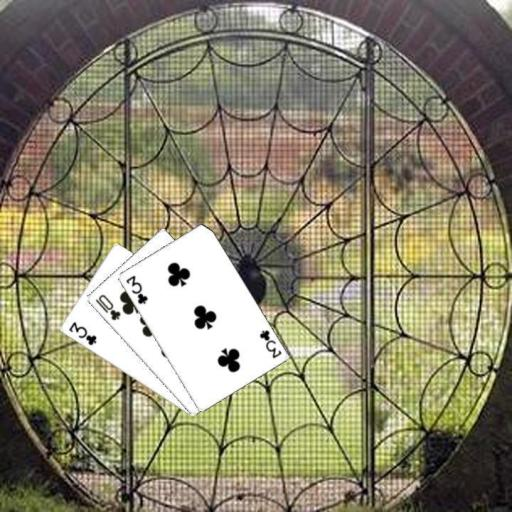card-corner: (122, 272, 150, 306), (92, 291, 122, 322), (256, 326, 283, 360), (66, 319, 98, 347)
